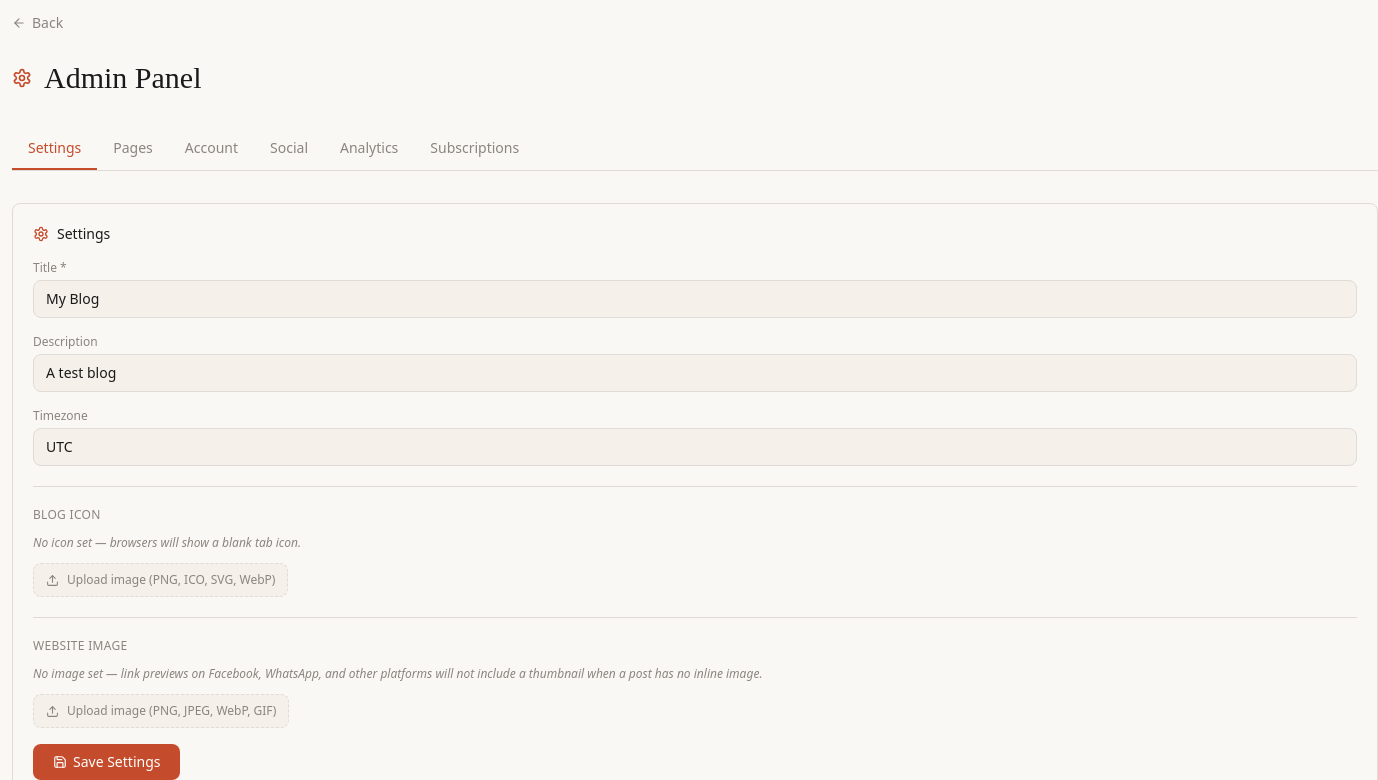
Test case: AdminPage › keeps saved site settings after switching tabs
Replace the text in the field labelled "Title *" with "New Title" at [695, 299], box [33, 280, 1357, 318]
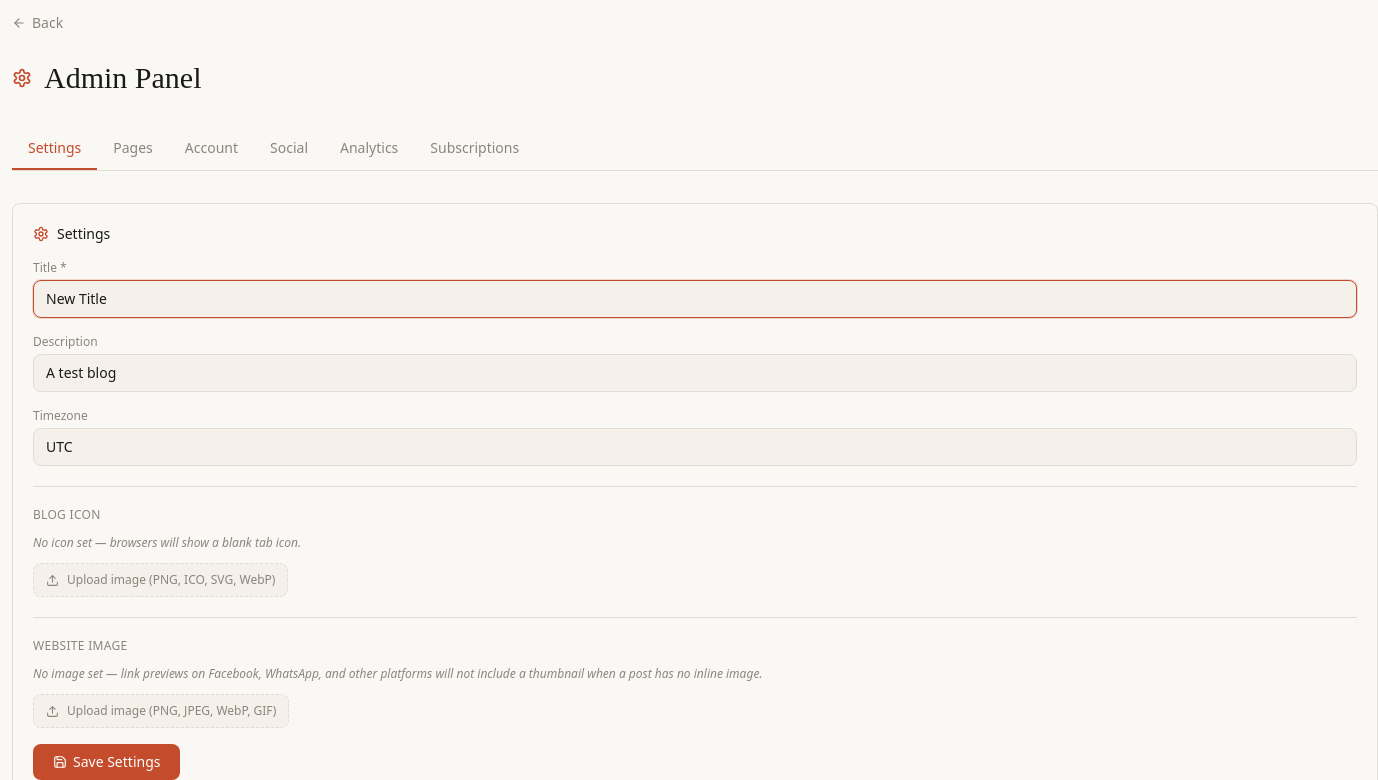
Click the button "Save Settings" at [107, 762], box [33, 744, 180, 779]
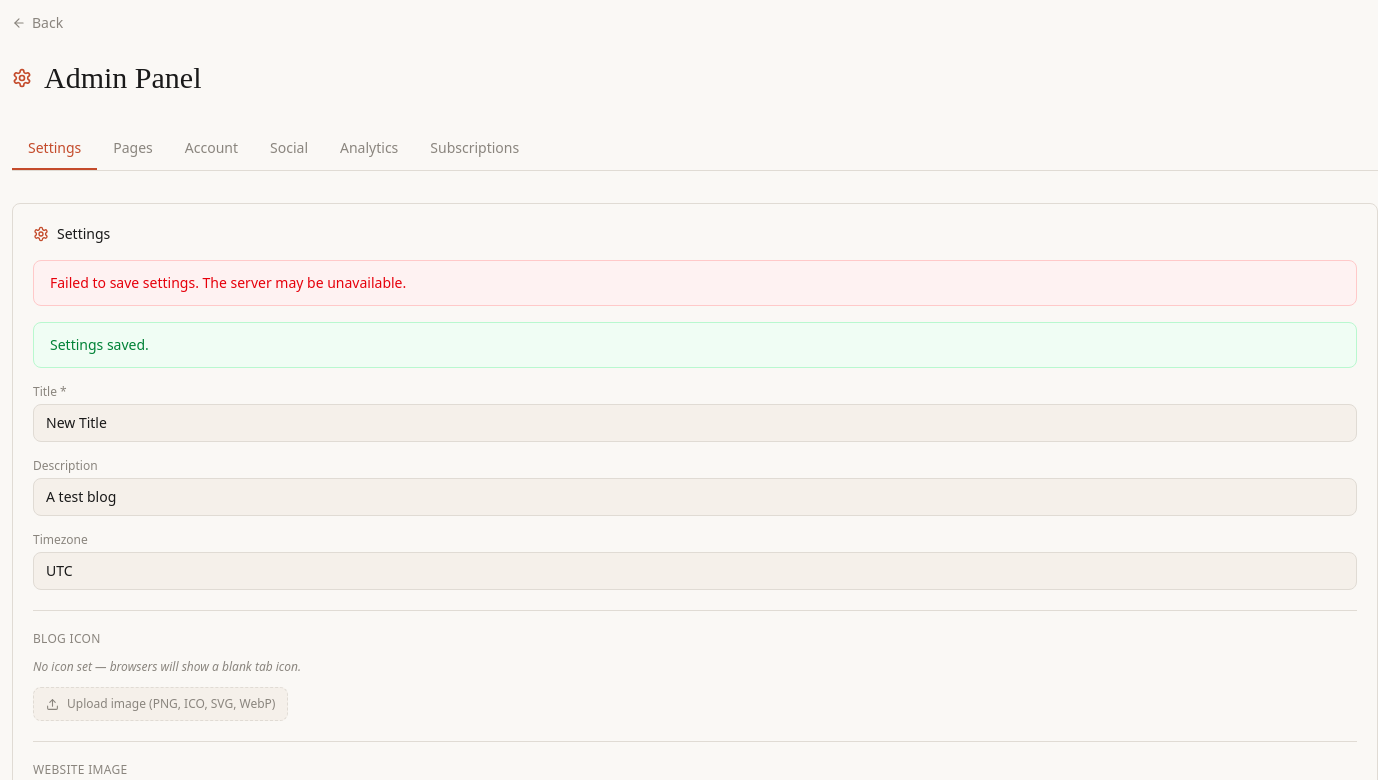
Now the text "Settings saved." is shown, box [33, 322, 1357, 368]
Click the button "Pages" at [133, 149], box [97, 128, 169, 170]
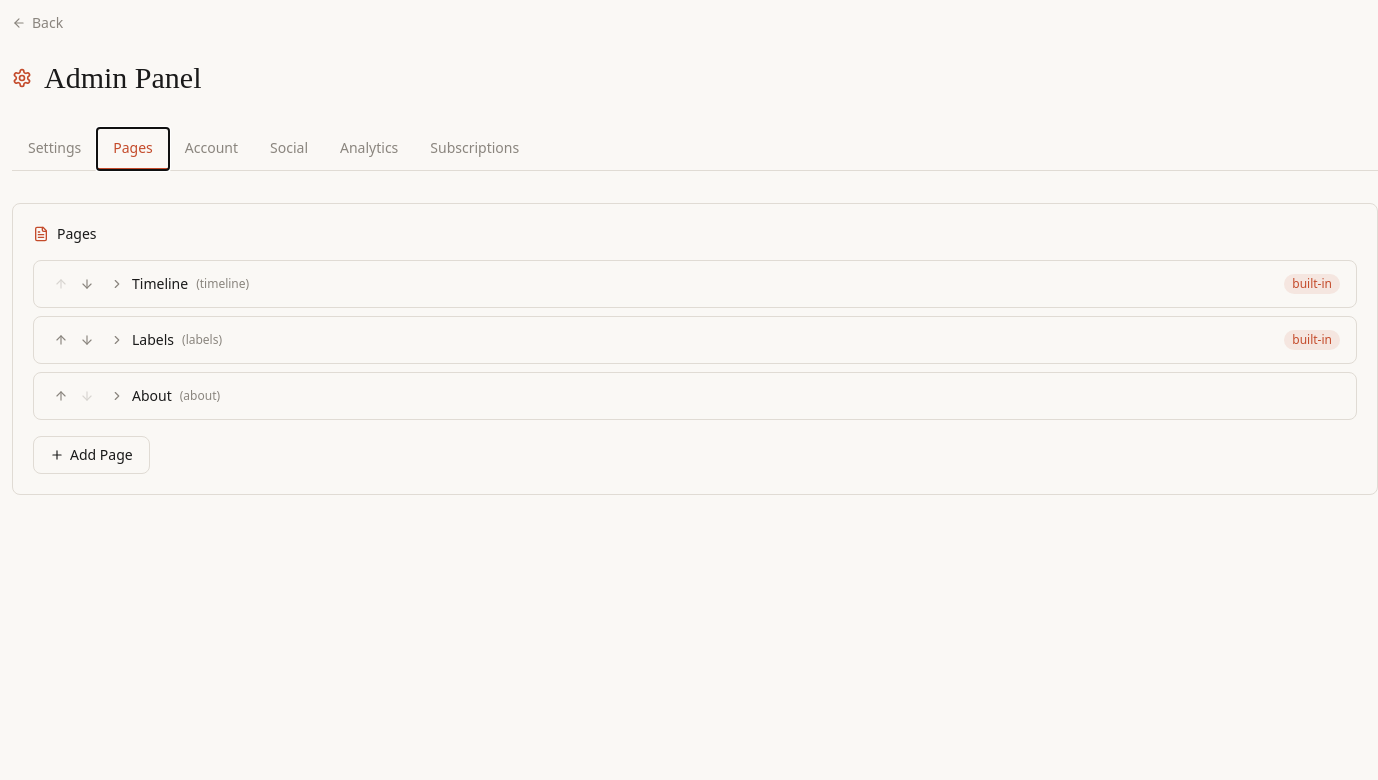
Now the text "Timeline" is shown, box [132, 274, 188, 294]
Click the button "Settings" at [55, 149], box [12, 128, 97, 170]
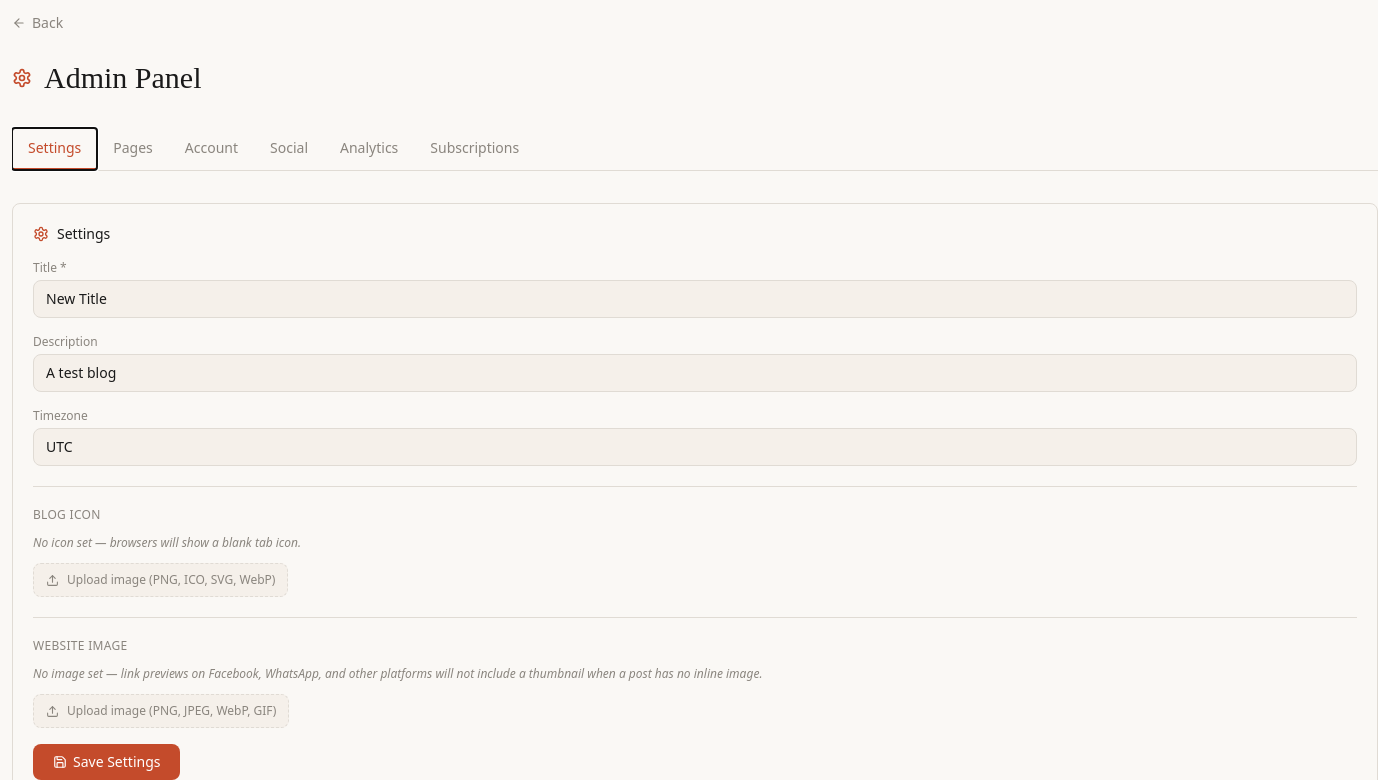
Now the field labelled "Title *" holds "New Title", box [33, 280, 1357, 318]
